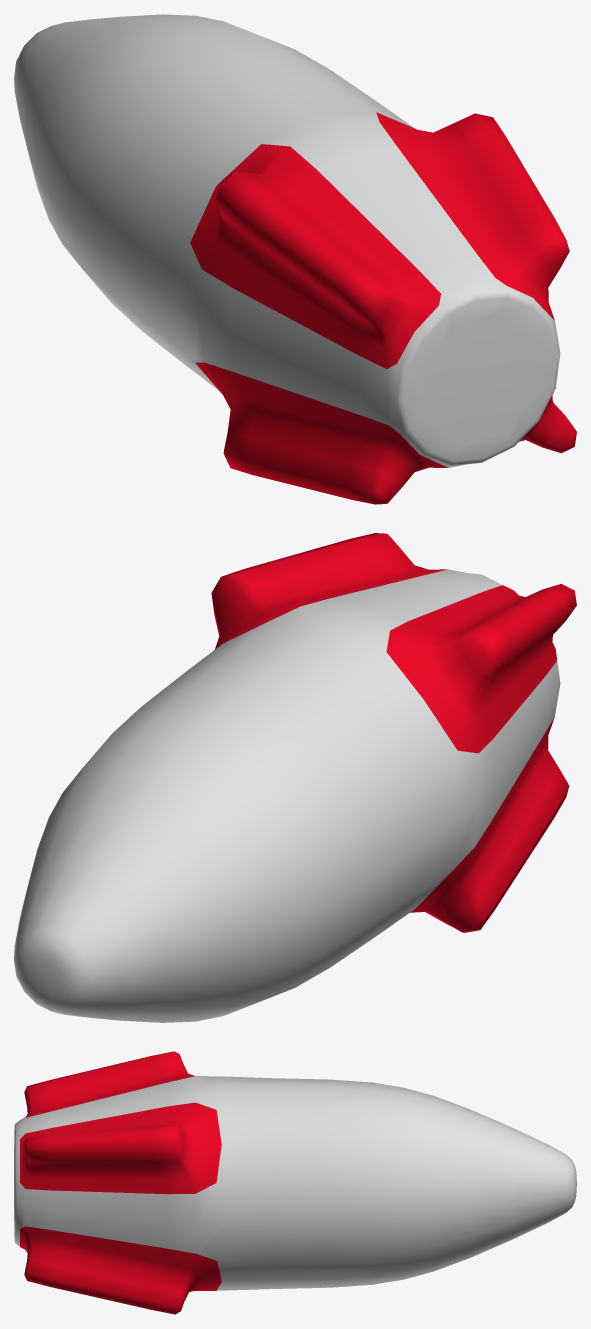
Rendered from TankRocket.fbx.
3 renders of one model, top to bottom at view 1: azimuth 30°, elevation 25°; view 2: azimuth 150°, elevation 25°; view 3: azimuth 270°, elevation 25°, orthographic. The views are drawn at different scales.
Parts seen in each view (by area): view 1: Cylinder; view 2: Cylinder; view 3: Cylinder.
Boxes of the visible parts, bbox=[...] form: Cylinder: bbox=[14, 14, 576, 504]; Cylinder: bbox=[14, 533, 576, 1022]; Cylinder: bbox=[14, 1051, 576, 1314].
Size of the model in its own units: 183 by 482 by 185.
